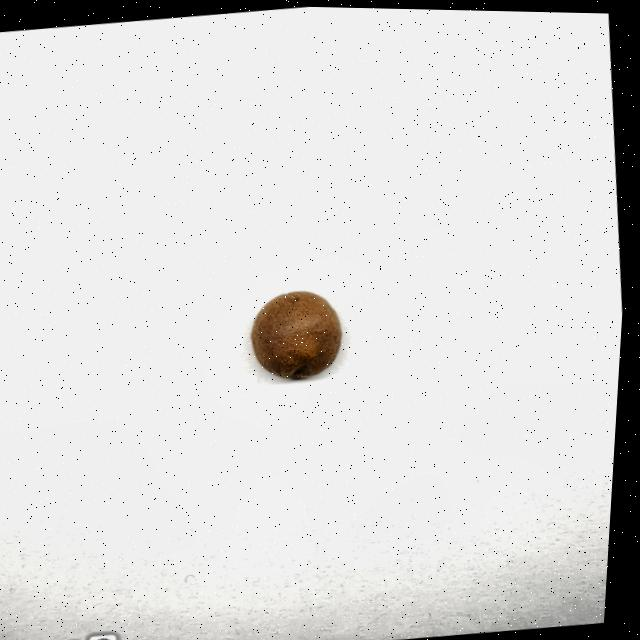Good bean: (252, 284, 350, 381)
